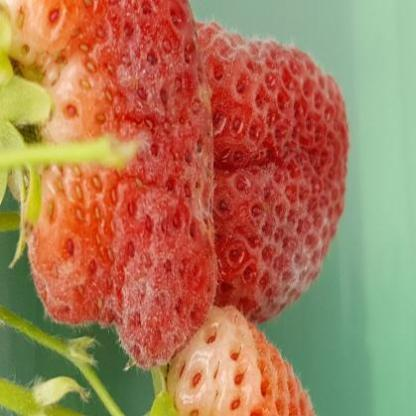Strawberry_Powdery_Mildew_Fruit: (0, 0, 220, 370), (198, 20, 351, 326)
